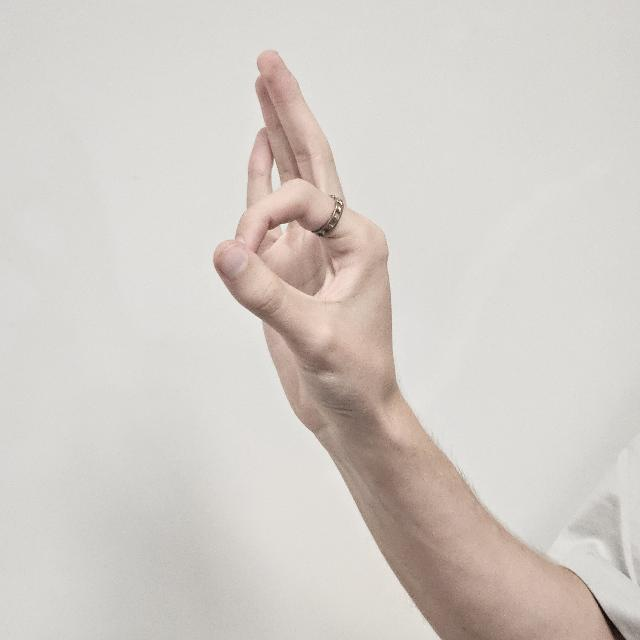Bolinha: (207, 49, 401, 438)
